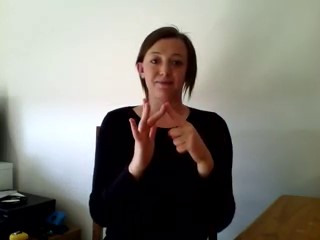I: (126, 92, 209, 176)
